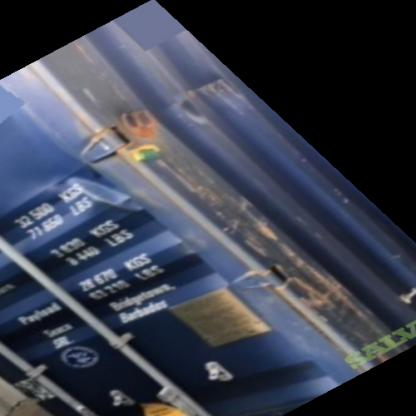Damage: (160, 126, 365, 364), (42, 163, 157, 227)
